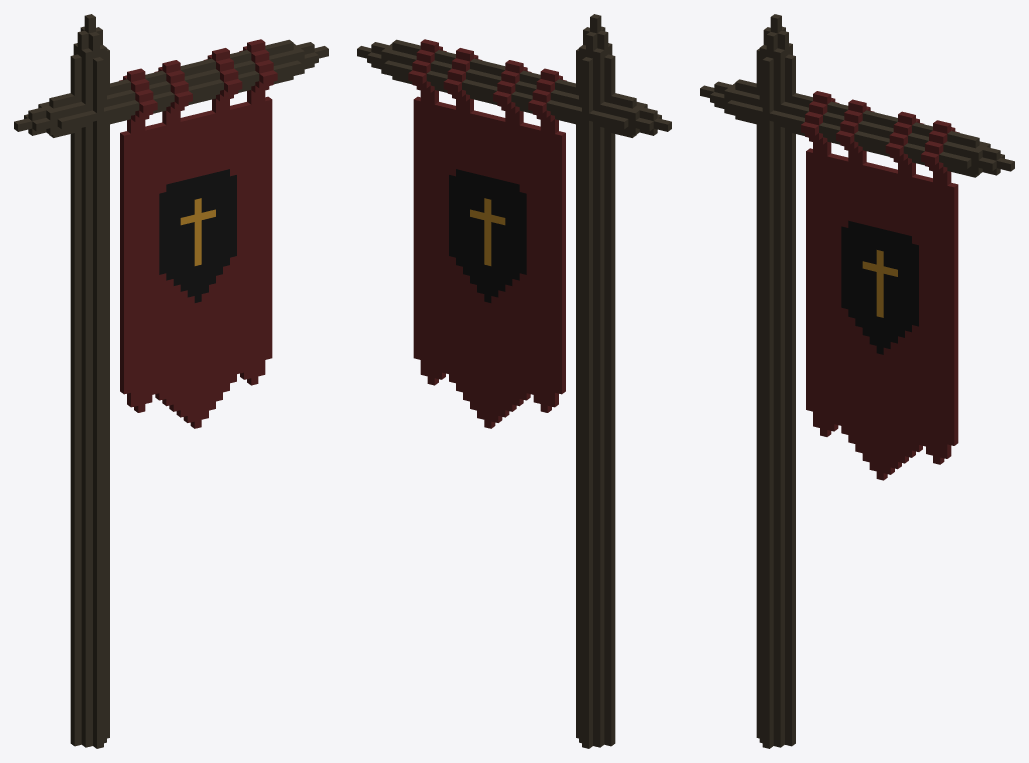
Rendered from Drapeaux3.fbx.
3 renders of one model, left to right at view 1: azimuth 30°, elevation 25°; view 2: azimuth 150°, elevation 25°; view 3: azimuth 330°, elevation 25°, orthographic.
Visible parts, largest first — view 1: Drapeaux_03:Mesh; view 2: Drapeaux_03:Mesh; view 3: Drapeaux_03:Mesh.
Boxes of the visible parts, x1,y1,x2,y2 form: Drapeaux_03:Mesh: (14, 14, 328, 748); Drapeaux_03:Mesh: (357, 14, 671, 748); Drapeaux_03:Mesh: (700, 14, 1014, 748).
Size of the model in its own units: 44 by 98 by 7.
